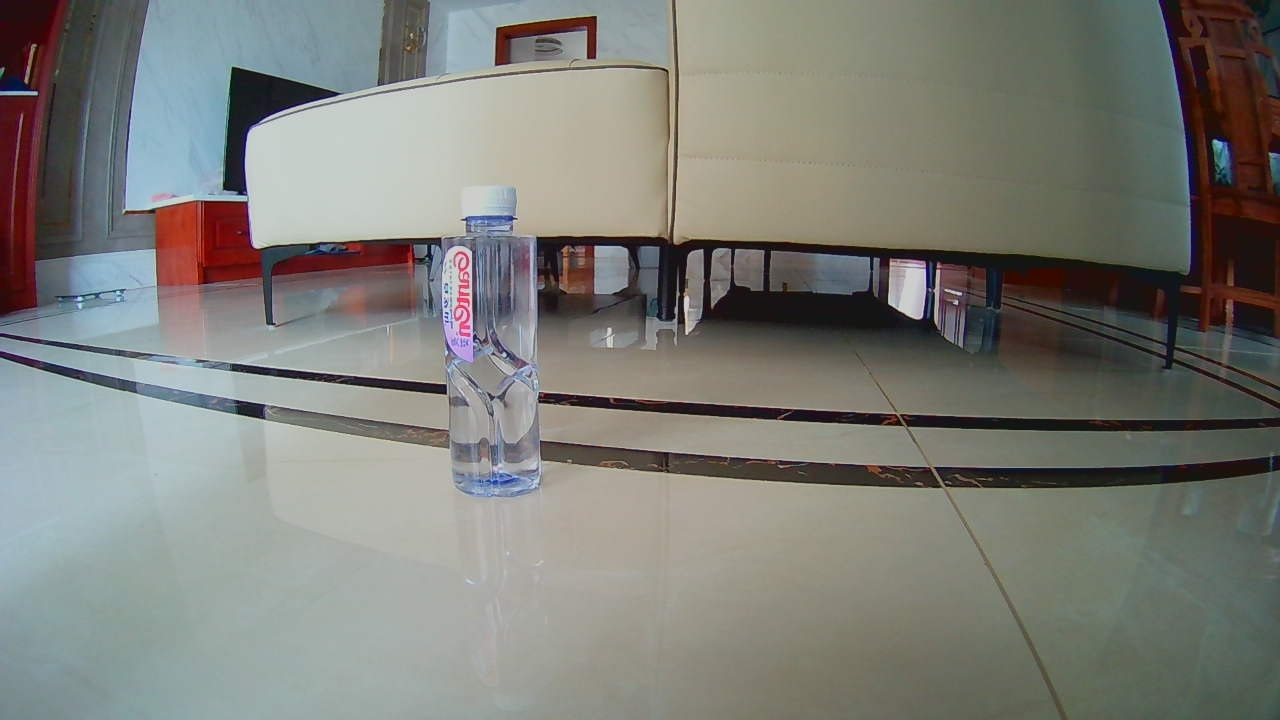water: (444, 190, 544, 494)
